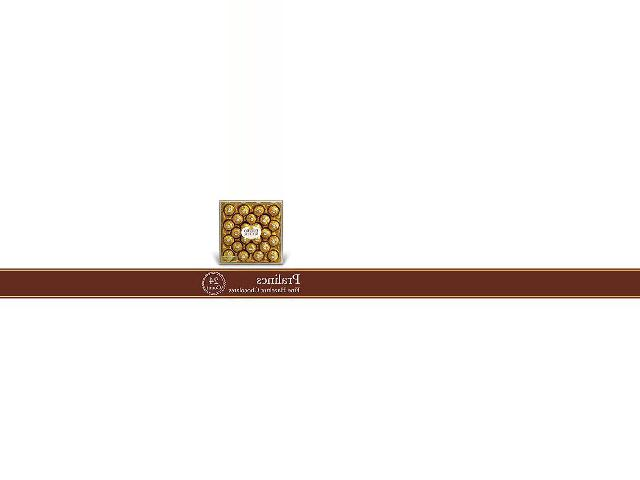chocolate: (214, 195, 285, 268)
